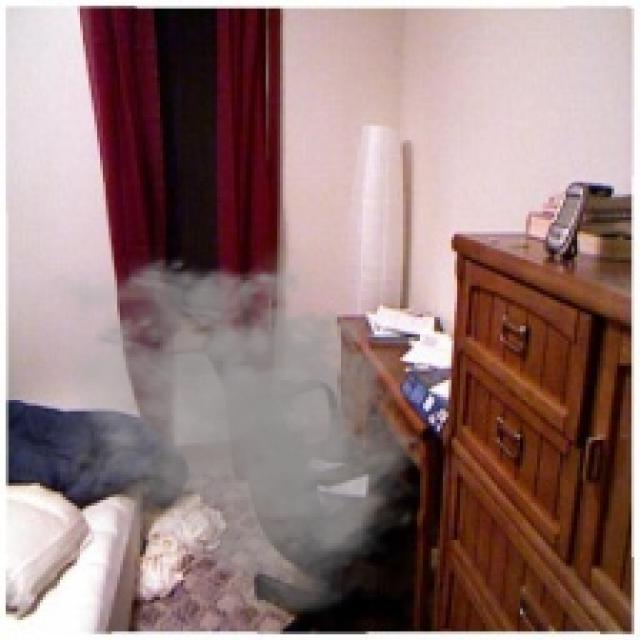smoke: (32, 240, 437, 626)
